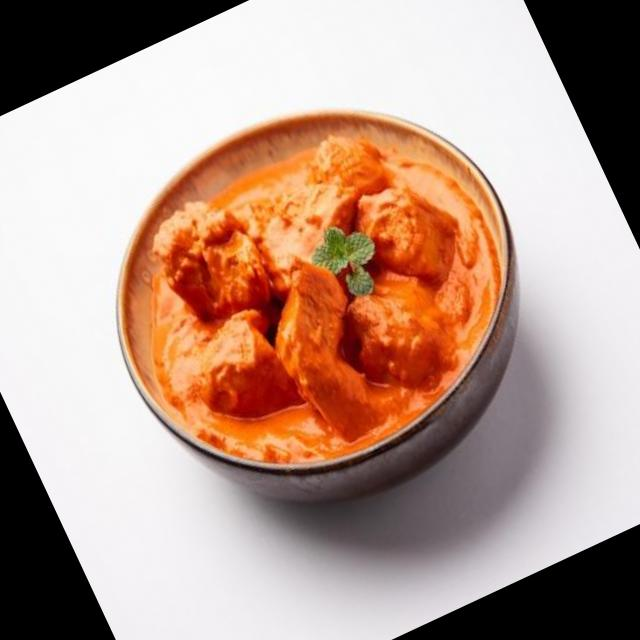chicken: (59, 38, 566, 521)
